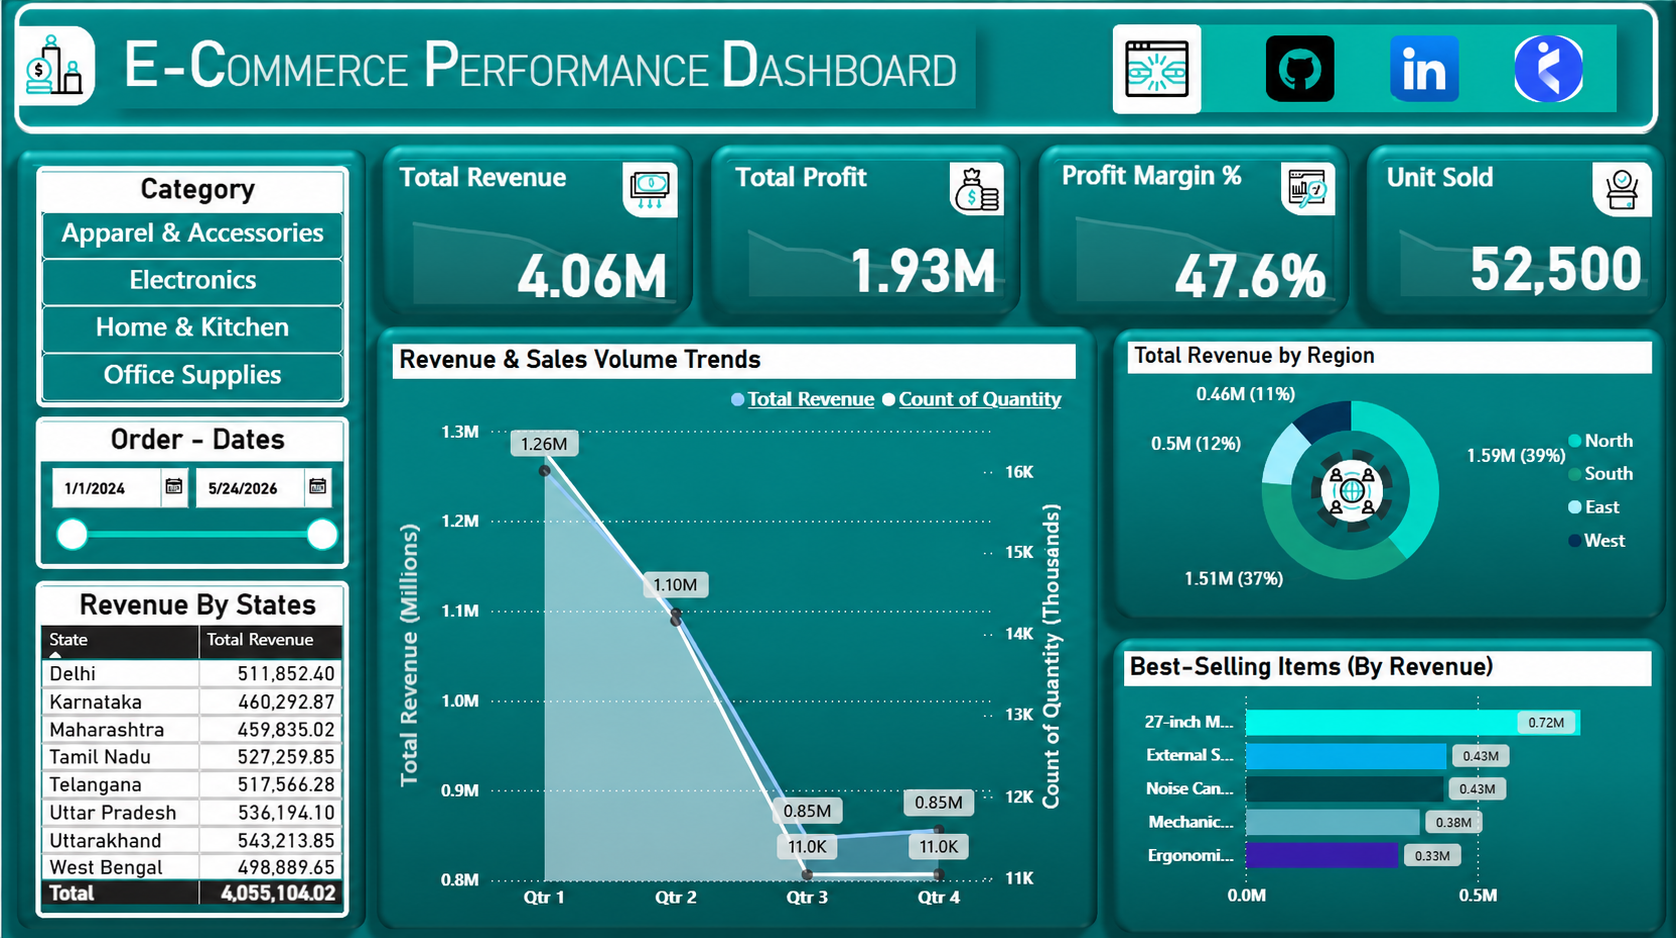

The page's visual inventory and layout, read from the dashboard file:
{"tool":"powerbi","page":{"name":"Page 1","canvas":[1280,720],"ordinal":0},"visuals":[{"type":"textbox","box":[848.3,20.2,385.7,67.1],"z":0,"group":"g1"},{"type":"stackedAreaChart","title":"Profit Margin %","fields":{"Y":["Sum(tbl_Orders.Quantity)"],"Category":["tbl_Customers.State"]},"box":[805.5,120,229.1,116.4],"z":1000},{"type":"card","fields":{"Values":["tbl_Orders.Profit Margin %"]},"box":[887.6,174.8,131.8,61.9],"z":2000},{"type":"advancedSlicerVisual","fields":{"Values":["tbl_Products.Category"]},"box":[27.1,128.6,238.6,182.9],"z":3000},{"type":"stackedAreaChart","title":"Total Profit","fields":{"Category":["tbl_Customers.State"],"Y":["Avg(tbl_Orders.Quantity)"]},"box":[555.4,122.4,227.3,110.3],"z":4000},{"type":"stackedAreaChart","title":"Unit Sold","fields":{"Category":["tbl_Customers.State"],"Y":["Avg(tbl_Orders.Quantity)"]},"box":[1052.7,120.9,219.1,110],"z":5000},{"type":"stackedAreaChart","title":"Total Revenue","fields":{"Y":["Sum(tbl_Orders.Quantity)"],"Category":["tbl_Customers.State"]},"box":[299.1,120.9,231.8,117.3],"z":6000},{"type":"card","fields":{"Values":["tbl_Orders.Total Profit"]},"box":[636.1,172.1,131.8,61.9],"z":7000},{"type":"card","fields":{"Values":["tbl_Orders.Total Revenue"]},"box":[385.7,175.7,132.9,61.4],"z":8000},{"type":"card","fields":{"Values":["CountNonNull(tbl_Orders.Quantity)"]},"box":[1101.4,169.4,169.4,61.9],"z":9000},{"type":"image","box":[10,20,60.5,63.3],"z":10000},{"type":"textbox","box":[85.9,17.1,657.1,67.1],"z":11000},{"type":"lineChart","title":"Revenue & Sales Volume Trends","fields":{"Y":["tbl_Orders.Total Revenue"],"Y2":["CountNonNull(tbl_Orders.Quantity)"],"Category":["tbl_Orders.OrderDate.Variation.Date Hierarchy.Quarter","tbl_Orders.OrderDate.Variation.Date Hierarchy.Month"]},"box":[298.6,262.9,521.4,438.6],"z":12000},{"type":"donutChart","title":"Total Revenue by Region","fields":{"Category":["tbl_Customers.Region"],"Y":["tbl_Orders.Total Revenue"]},"box":[859.3,262.2,400.8,207.1],"z":13000},{"type":"image","box":[1000,342.9,62.9,62.9],"z":14000},{"type":"image","box":[471.3,124.7,46,42],"z":15000},{"type":"image","box":[721.8,124.5,45.5,40.9],"z":16000},{"type":"image","box":[1215.7,124.3,45.7,41.4],"z":17000},{"type":"image","box":[974.5,124.5,45.5,40.9],"z":18000},{"type":"clusteredBarChart","title":"Best-Selling Items (By Revenue)","fields":{"Category":["tbl_Products.ProductName"],"Y":["tbl_Orders.Total Revenue"]},"box":[857.1,497.1,404.3,204.3],"z":19000},{"type":"slicer","title":"Order - Dates","fields":{"Values":["tbl_Orders.OrderDate"]},"box":[27.1,318.6,238.6,115.7],"z":20000},{"type":"tableEx","title":"Revenue By States","fields":{"Values":["tbl_Customers.State","tbl_Orders.Total Revenue"]},"box":[27.1,442.9,238.6,255.7],"z":21000},{"type":"image","box":[961.6,28.5,60,51.5],"z":22000,"group":"g1"},{"type":"image","box":[1056.9,28.8,60,51.4],"z":23000,"group":"g1"},{"type":"image","box":[1152.6,28.8,60,51.4],"z":24000,"group":"g1"},{"type":"image","box":[838.5,20,87.7,67.7],"z":25000,"group":"g1"},{"type":"group","id":"g1","title":"Group 1","box":[838.5,20,395.4,67.7],"z":25001}]}

Visuals, with their boxes in screenshot pixels (x1, y1, x2, y2), scaled from the page's 1280x720 canvas onto the 1676x938 screenshot:
textbox: box=[1111, 26, 1616, 114]
"Profit Margin %" stackedAreaChart: box=[1055, 156, 1355, 308]
card - tbl_Orders.Profit Margin %: box=[1162, 228, 1335, 308]
advancedSlicerVisual - tbl_Products.Category: box=[35, 168, 348, 406]
"Total Profit" stackedAreaChart: box=[727, 159, 1025, 303]
"Unit Sold" stackedAreaChart: box=[1378, 158, 1665, 301]
"Total Revenue" stackedAreaChart: box=[392, 158, 695, 310]
card - tbl_Orders.Total Profit: box=[833, 224, 1005, 305]
card - tbl_Orders.Total Revenue: box=[505, 229, 679, 309]
card - CountNonNull(tbl_Orders.Quantity): box=[1442, 221, 1664, 301]
image: box=[13, 26, 92, 109]
textbox: box=[112, 22, 973, 110]
"Revenue & Sales Volume Trends" lineChart: box=[391, 343, 1074, 914]
"Total Revenue by Region" donutChart: box=[1125, 342, 1650, 611]
image: box=[1309, 447, 1392, 529]
image: box=[617, 162, 677, 217]
image: box=[945, 162, 1005, 215]
image: box=[1592, 162, 1652, 216]
image: box=[1276, 162, 1336, 215]
"Best-Selling Items (By Revenue)" clusteredBarChart: box=[1122, 648, 1652, 914]
"Order - Dates" slicer: box=[35, 415, 348, 566]
"Revenue By States" tableEx: box=[35, 577, 348, 910]
image: box=[1259, 37, 1338, 104]
image: box=[1384, 38, 1462, 104]
image: box=[1509, 38, 1588, 104]
image: box=[1098, 26, 1213, 114]
"Group 1" group: box=[1098, 26, 1616, 114]
